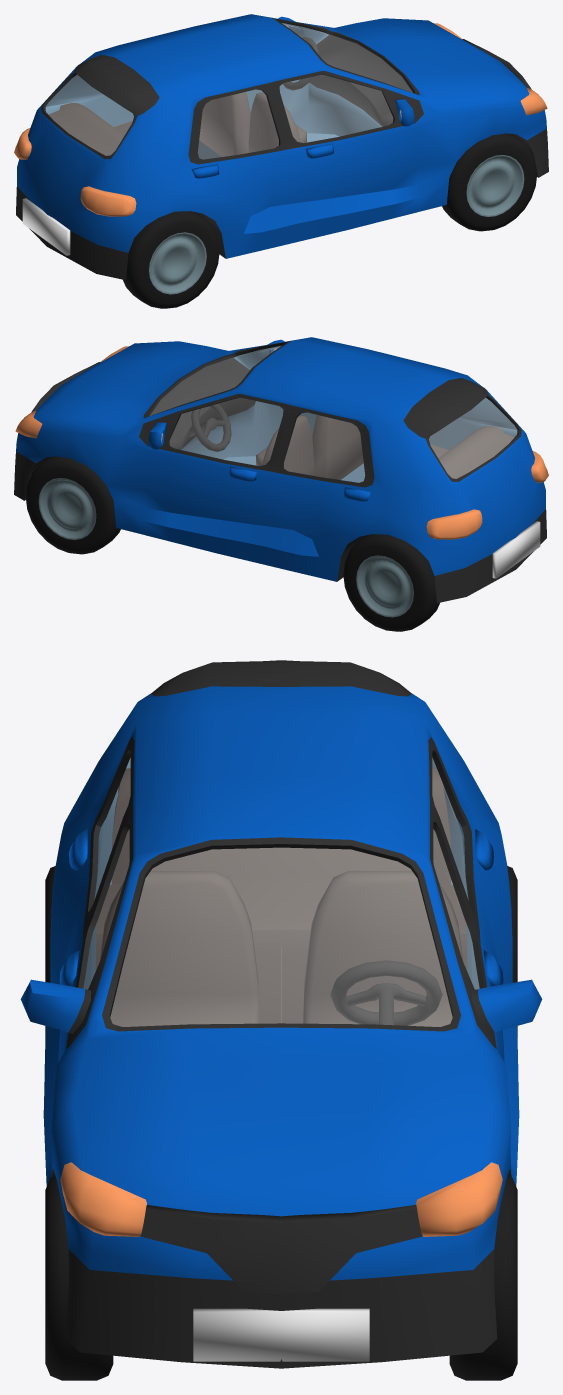
Rendered from car_4.glb.
The picture shows the model from 3 angles, top to bottom: view 1: azimuth 30°, elevation 25°; view 2: azimuth 150°, elevation 25°; view 3: azimuth 270°, elevation 25°; orthographic projection. The views are drawn at different scales.
Parts seen in each view (by area): view 1: Transport7; view 2: Transport7; view 3: Transport7.
Boxes of the visible parts, <box> form: Transport7: <box>14,14,548,308</box>; Transport7: <box>14,337,548,631</box>; Transport7: <box>20,660,542,1380</box>.
Size of what is drawn, in the model's own units: 2.47 by 0.9844 by 1.18.
2 materials, 2 textured.
